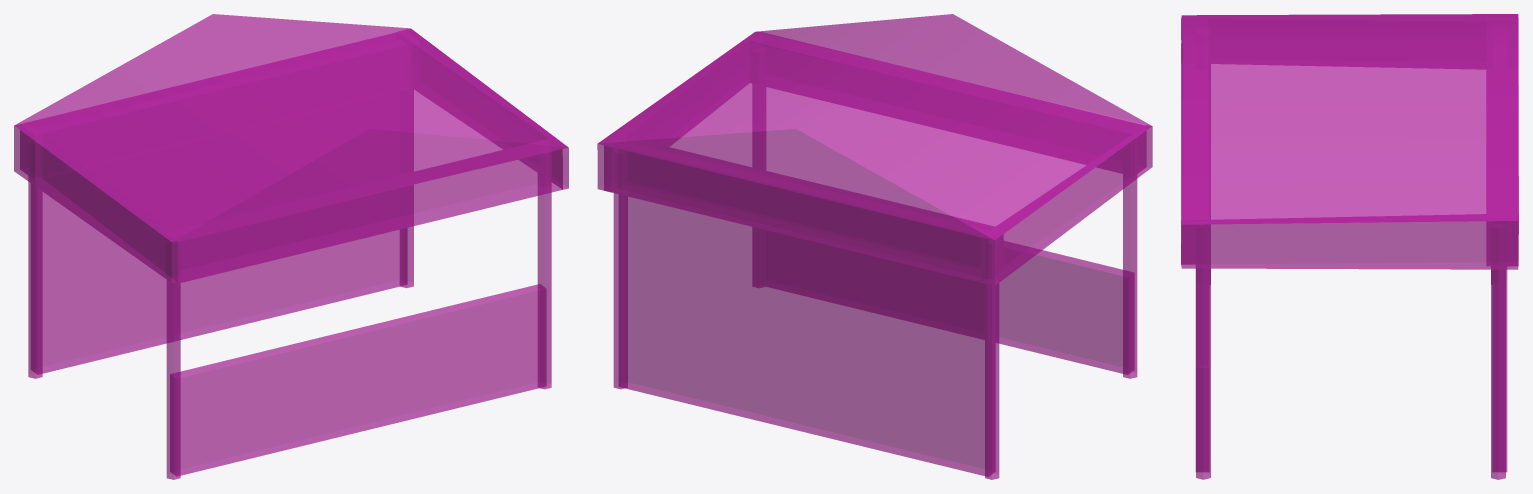
Rendered from SM_Prop_Stall_01_Damaged_01_Collision.fbx.
The picture shows the model from 3 angles, left to right: view 1: azimuth 30°, elevation 25°; view 2: azimuth 150°, elevation 25°; view 3: azimuth 270°, elevation 25°; orthographic projection. The views are drawn at different scales.
Visible parts, largest first — view 1: SM_Prop_Stall_01_Damaged_01_Collision; view 2: SM_Prop_Stall_01_Damaged_01_Collision; view 3: SM_Prop_Stall_01_Damaged_01_Collision.
Boxes of the visible parts, x1,y1,x2,y2 form: SM_Prop_Stall_01_Damaged_01_Collision: [14, 14, 568, 479]; SM_Prop_Stall_01_Damaged_01_Collision: [597, 14, 1152, 479]; SM_Prop_Stall_01_Damaged_01_Collision: [1181, 14, 1518, 479].
Size of the model in its own units: 399 by 296 by 275.
